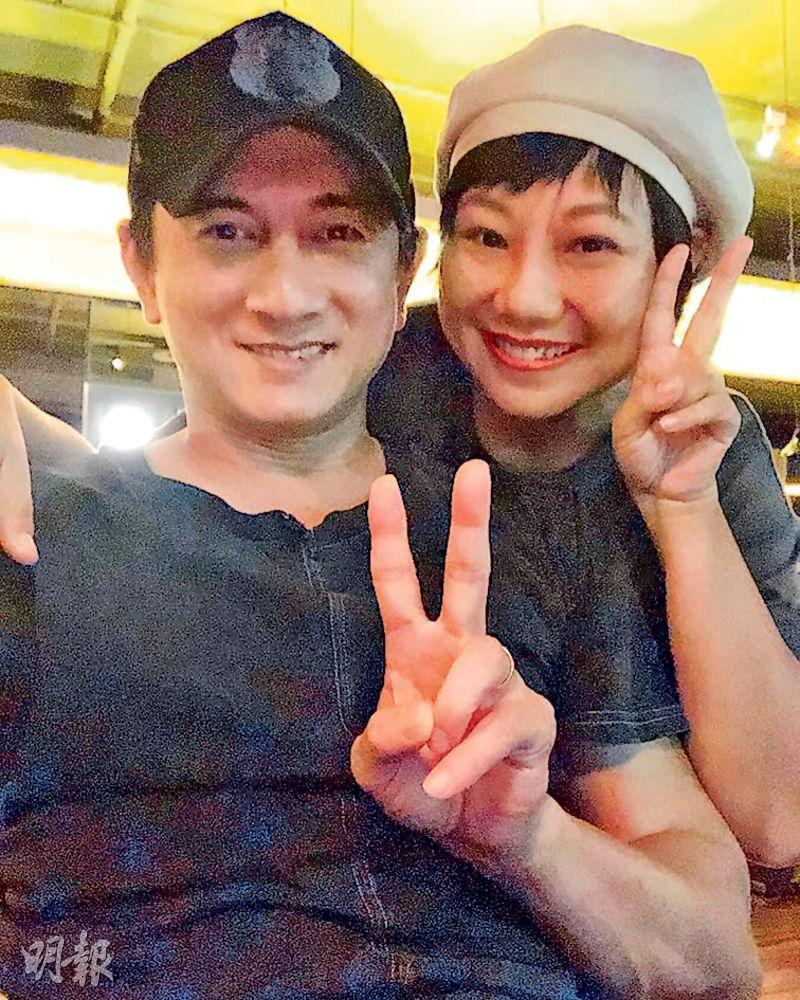v_s: (336, 453, 571, 883), (599, 229, 754, 508)
